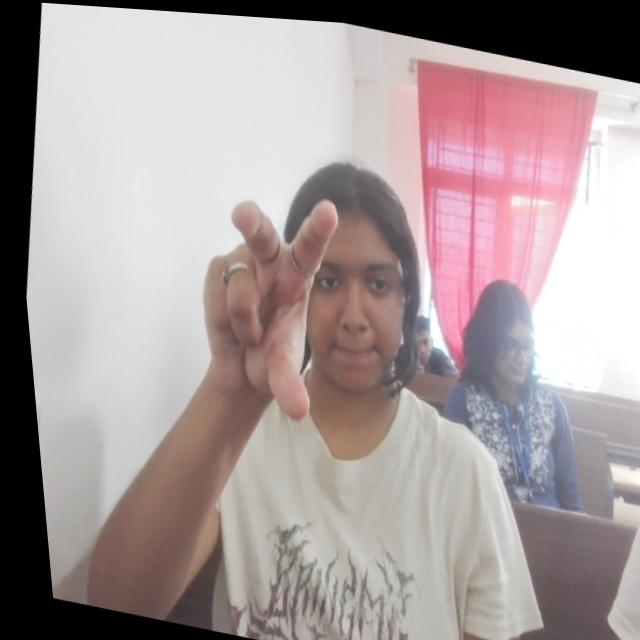no: (172, 169, 354, 430)
